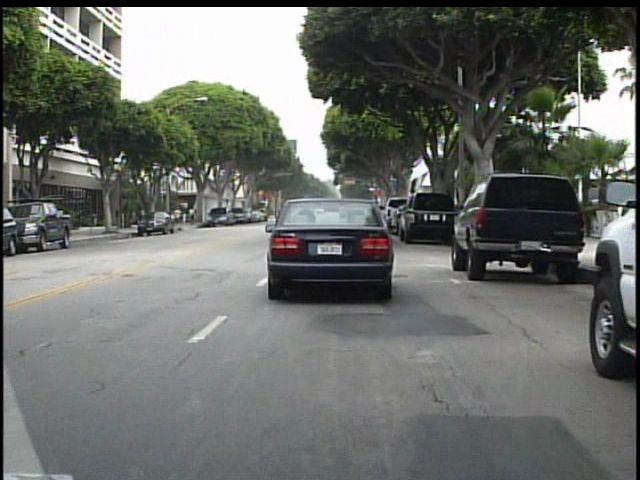person: (186, 202, 198, 228), (175, 204, 184, 226)
